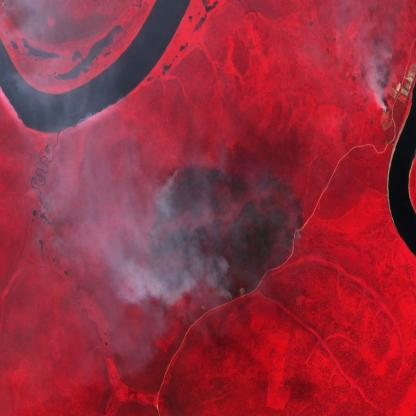fire: (148, 161, 238, 306), (374, 39, 398, 116)
